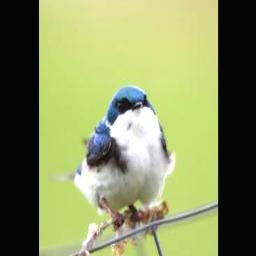Swallow: (46, 84, 177, 232)
